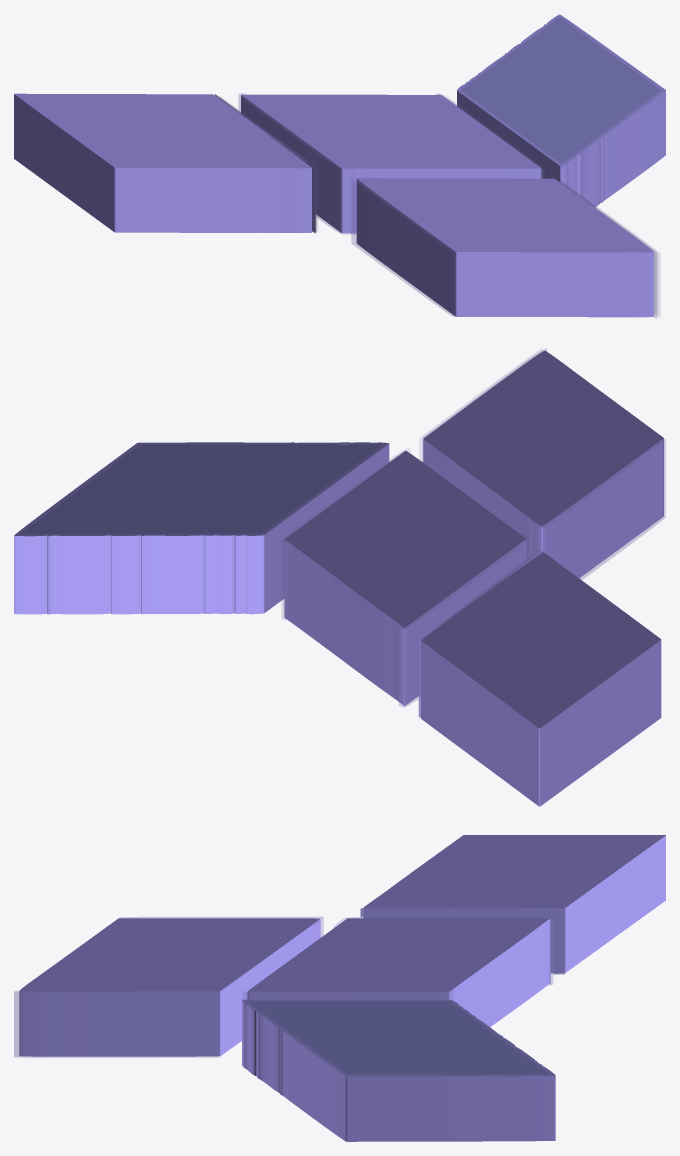
The model's file is Terraform-transformed.glb.
3 views of the same model, one above another, from view 1: azimuth 30°, elevation 25°; view 2: azimuth 150°, elevation 25°; view 3: azimuth 270°, elevation 25° (orthographic). The views are drawn at different scales.
Visible parts, largest first — view 1: Node3, Node4, Node2, Node5, Node1, Node7, Node6; view 2: Node4, Node2, Node3, Node1, Node5, Node7, Node6; view 3: Node3, Node4, Node1, Node2, Node5, Node11, Node9, Node14, Node8, Node12, Node10, Node13 (+1 smaller).
Boxes of the visible parts, x1,y1,x2,y2 form: Node3: [356, 178, 653, 317]; Node4: [14, 93, 311, 232]; Node2: [241, 94, 541, 233]; Node5: [461, 17, 660, 163]; Node1: [457, 14, 665, 207]; Node7: [351, 177, 453, 316]; Node6: [238, 93, 367, 234]; Node4: [421, 552, 661, 806]; Node2: [284, 451, 526, 705]; Node3: [423, 350, 663, 578]; Node1: [14, 442, 389, 614]; Node5: [21, 444, 381, 533]; Node7: [529, 439, 665, 579]; Node6: [399, 527, 528, 707]; Node3: [19, 918, 320, 1056]; Node4: [363, 835, 665, 972]; Node1: [242, 999, 555, 1141]; Node2: [247, 918, 550, 1026]; Node5: [248, 1001, 549, 1074]; Node11: [14, 993, 219, 1057]; Node9: [14, 991, 218, 1056]; Node14: [362, 908, 564, 974]; Node8: [246, 990, 453, 1000]; Node12: [361, 910, 557, 974]; Node10: [242, 991, 453, 999]; Node13: [360, 907, 565, 972].
Size of the model in its own units: 79.56 by 10 by 90.74.
